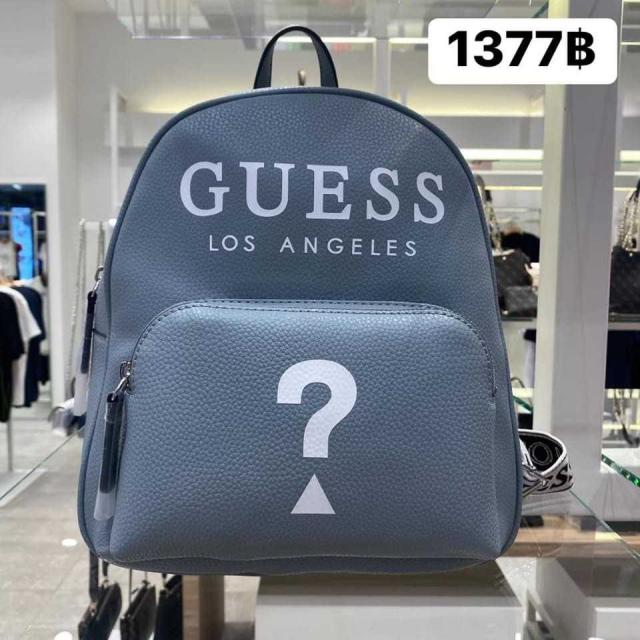handbag: (77, 84, 520, 580)
